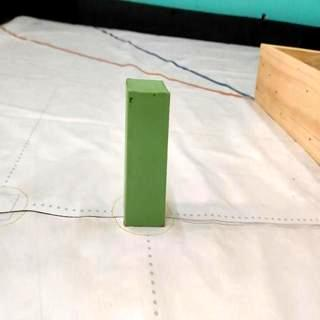greenbox: (124, 78, 170, 228)
